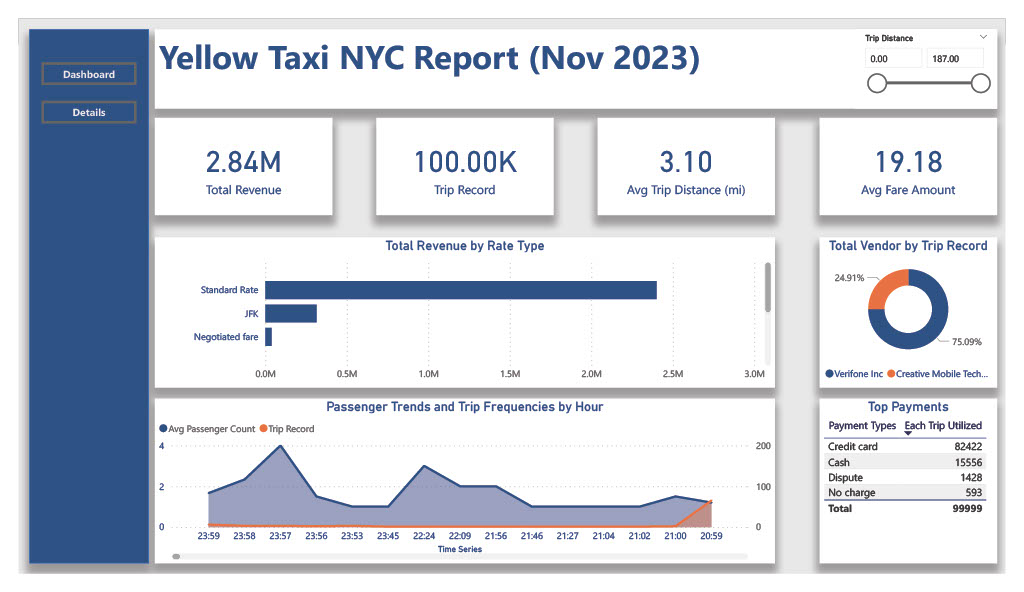

The page's visual inventory and layout, read from the dashboard file:
{"tool":"powerbi","page":{"name":"Taxi-Report","canvas":[1280,720],"ordinal":0},"visuals":[{"type":"card","fields":{"Values":["Sum(taxi_analytics.total_amount)"]},"box":[176.9,128.7,229.8,126.4],"z":0,"group":"g1"},{"type":"shape","box":[13.8,13.8,155.1,692.9],"z":0},{"type":"card","fields":{"Values":["CountNonNull(taxi_analytics.trip_id)"]},"box":[464,128.7,230,126.4],"z":1000,"group":"g1"},{"type":"actionButton","box":[29.9,57.5,122.9,28.7],"z":1000},{"type":"card","fields":{"Values":["Avg(taxi_analytics.trip_distance)"]},"box":[751.3,128.7,230,126.4],"z":2000,"group":"g1"},{"type":"actionButton","box":[29.9,106.9,122.9,28.7],"z":2000},{"type":"card","fields":{"Values":["Avg(taxi_analytics.fare_amount)"]},"box":[1038.7,128.7,229.8,126.4],"z":3000,"group":"g1"},{"type":"textbox","box":[176.9,13.8,1091.6,103.4],"z":3000},{"type":"slicer","fields":{"Values":["taxi_analytics.trip_distance"]},"box":[1084.7,13.8,183.8,103.4],"z":4000},{"type":"barChart","title":"Total Revenue by Rate Type","fields":{"Category":["taxi_analytics.ratecode_name"],"Y":["Sum(taxi_analytics.total_amount)"]},"box":[176.9,283.8,804.3,195.3],"z":4000,"group":"g1"},{"type":"group","id":"g1","title":"Group 1","box":[176.9,128.7,1091.6,578],"z":5000},{"type":"areaChart","title":"Passenger Trends and Trip Frequencies by Hour","fields":{"Y":["Avg(taxi_analytics.passenger_count)"],"Category":["taxi_analytics.pickup_time"],"Y2":["Count(taxi_analytics.trip_id)"]},"box":[176.9,492.9,804.3,213.7],"z":5000,"group":"g1"},{"type":"donutChart","title":"Total Vendor by Trip Record","fields":{"Category":["taxi_analytics.vendor_type"],"Y":["CountNonNull(taxi_analytics.trip_id)"]},"box":[1038.7,283.8,229.8,195.3],"z":6000,"group":"g1"},{"type":"tableEx","title":"Top Payments","fields":{"Values":["taxi_analytics.payment_type_name","Count(taxi_analytics.trip_id)"]},"box":[1038.7,492.9,229.8,213.7],"z":7000,"group":"g1"}]}

Visuals, with their boxes in screenshot pixels (x1, y1, x2, y2), scaled from the page's 1280x720 canvas onto the 1024x592 screenshot:
card - Sum(taxi_analytics.total_amount): crop(142, 106, 325, 210)
shape: crop(11, 11, 135, 581)
card - CountNonNull(taxi_analytics.trip_id): crop(371, 106, 555, 210)
actionButton: crop(24, 47, 122, 71)
card - Avg(taxi_analytics.trip_distance): crop(601, 106, 785, 210)
actionButton: crop(24, 88, 122, 111)
card - Avg(taxi_analytics.fare_amount): crop(831, 106, 1015, 210)
textbox: crop(142, 11, 1015, 96)
slicer - taxi_analytics.trip_distance: crop(868, 11, 1015, 96)
"Total Revenue by Rate Type" barChart: crop(142, 233, 785, 394)
"Group 1" group: crop(142, 106, 1015, 581)
"Passenger Trends and Trip Frequencies by Hour" areaChart: crop(142, 405, 785, 581)
"Total Vendor by Trip Record" donutChart: crop(831, 233, 1015, 394)
"Top Payments" tableEx: crop(831, 405, 1015, 581)
